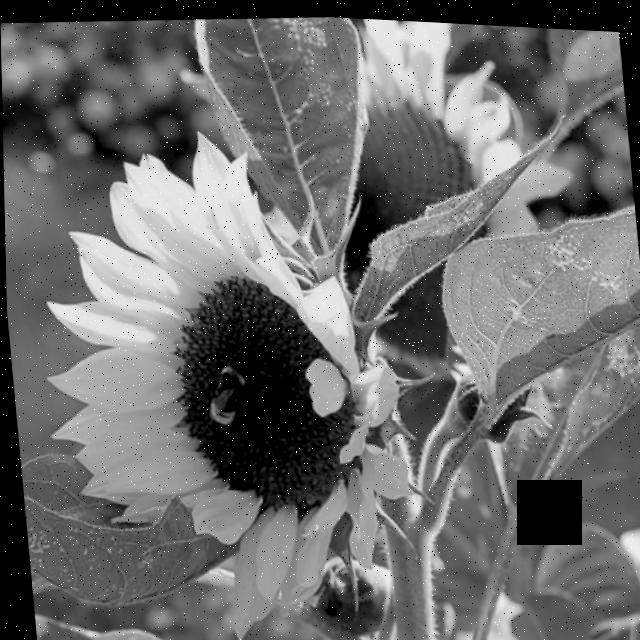sunflower: (0, 3, 425, 640)
